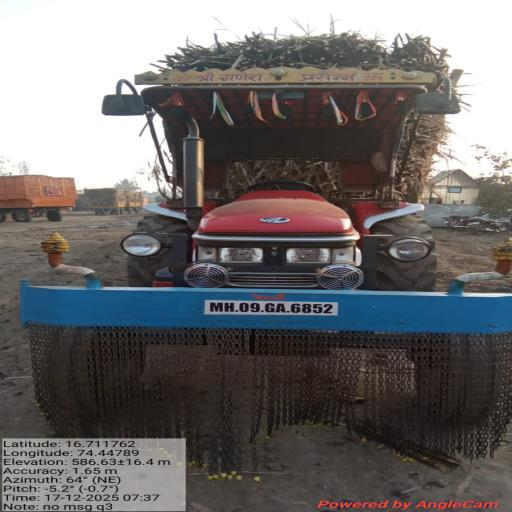number_plate: (205, 300, 337, 316)
